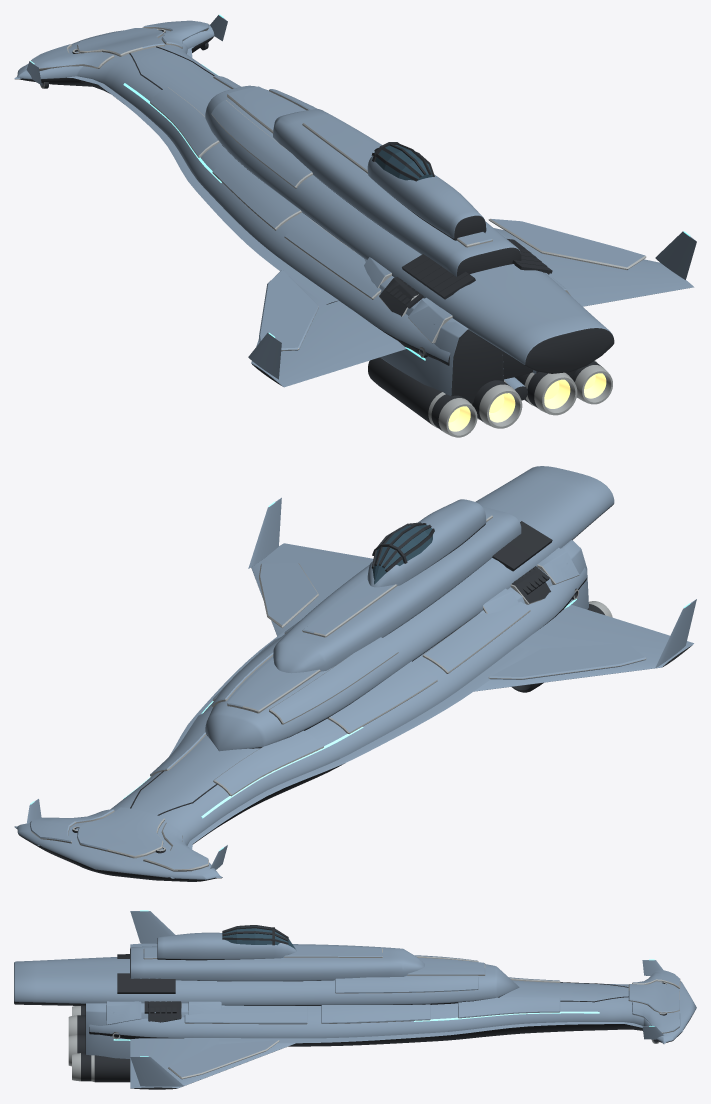
The model's file is albatross.glb.
3 views of the same model, one above another, from view 1: azimuth 30°, elevation 25°; view 2: azimuth 150°, elevation 25°; view 3: azimuth 270°, elevation 25° (orthographic). The views are drawn at different scales.
Parts seen in each view (by area): view 1: Hull_Albatross; view 2: Hull_Albatross; view 3: Hull_Albatross.
Boxes of the visible parts, x1,y1,x2,y2 form: Hull_Albatross: (14, 14, 696, 437); Hull_Albatross: (14, 466, 696, 881); Hull_Albatross: (14, 910, 696, 1089).
Bounding box in the file's own units: 101 × 42.01 × 200.
